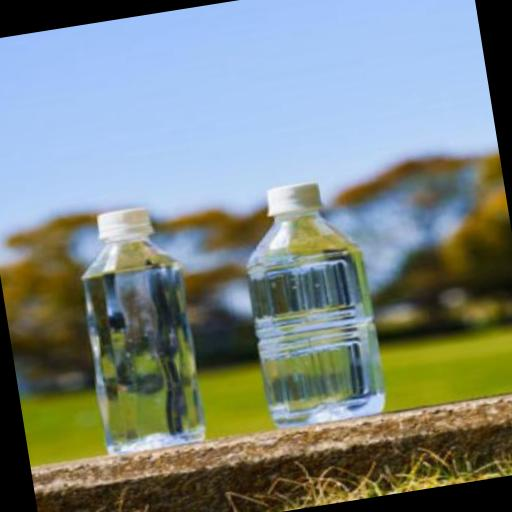Coca: (213, 166, 404, 446), (53, 194, 222, 470)
